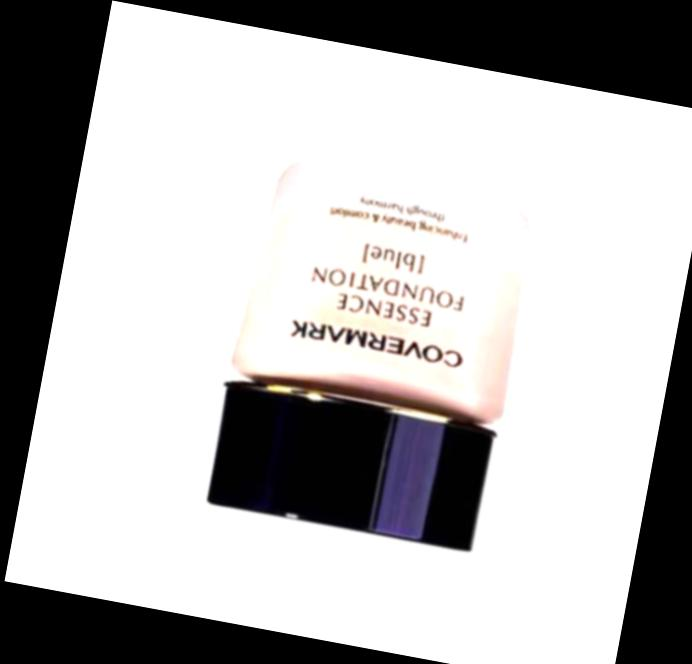cosmetic: (200, 150, 544, 554)
